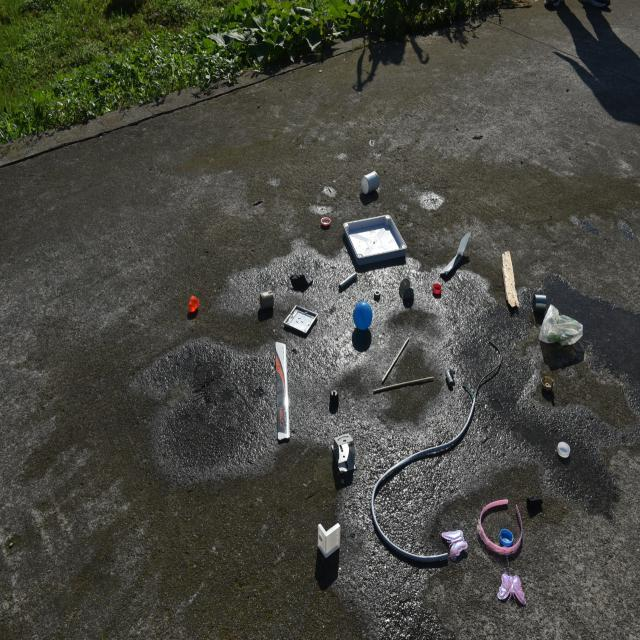Debris: (372, 440, 474, 577), (338, 215, 406, 267), (475, 490, 523, 560), (545, 295, 586, 351), (312, 506, 345, 572), (434, 228, 475, 280), (377, 328, 415, 382), (366, 367, 431, 395), (273, 336, 291, 434), (495, 252, 520, 316), (288, 300, 318, 337), (496, 568, 527, 602), (350, 296, 374, 339), (332, 432, 355, 476), (355, 165, 384, 199), (285, 268, 318, 291), (255, 285, 278, 312), (552, 433, 569, 468), (397, 279, 418, 306), (337, 272, 355, 297), (541, 372, 562, 393), (329, 383, 340, 419), (187, 292, 200, 320), (318, 208, 334, 228), (432, 280, 443, 300), (372, 289, 383, 303)
